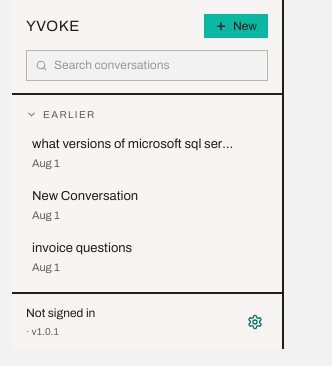
Test: ThreadList search › drops a stale snippet when the query moves on
This screenshot has width=332, height=366.
Type "retention" into the field labelled "Search conversations".
click(156, 66); type("retention")  # box [54, 56, 259, 75]
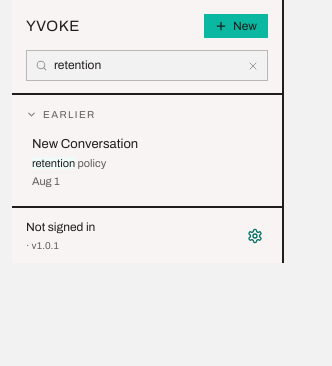
Check: the element with class "thread-snippet" is shown, box [32, 157, 106, 169]
Replace the text in the field named "Search conversations" with "invoice" at point(148, 66), box [54, 56, 241, 75]
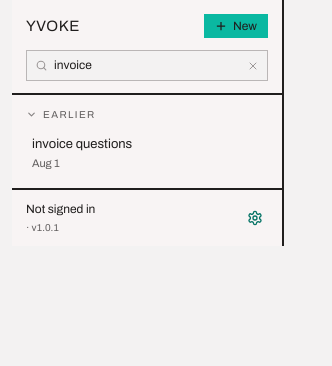
Check: the element with class "thread-snippet" is gone
Check: the text "invoice questions" is shown, box [32, 138, 132, 152]
